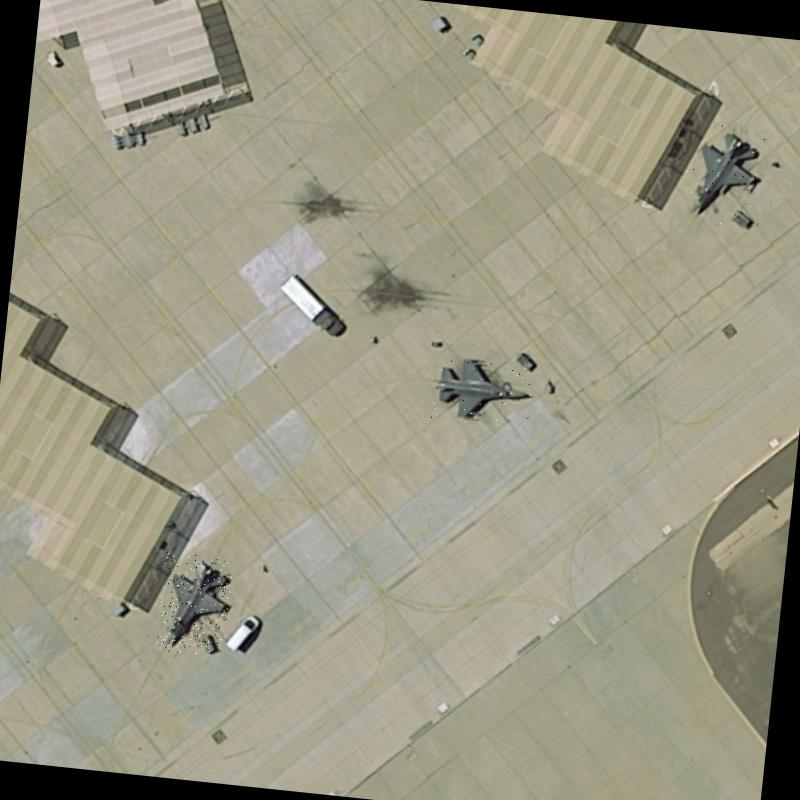A5: (680, 122, 768, 228), (426, 350, 536, 428), (156, 551, 234, 657)
